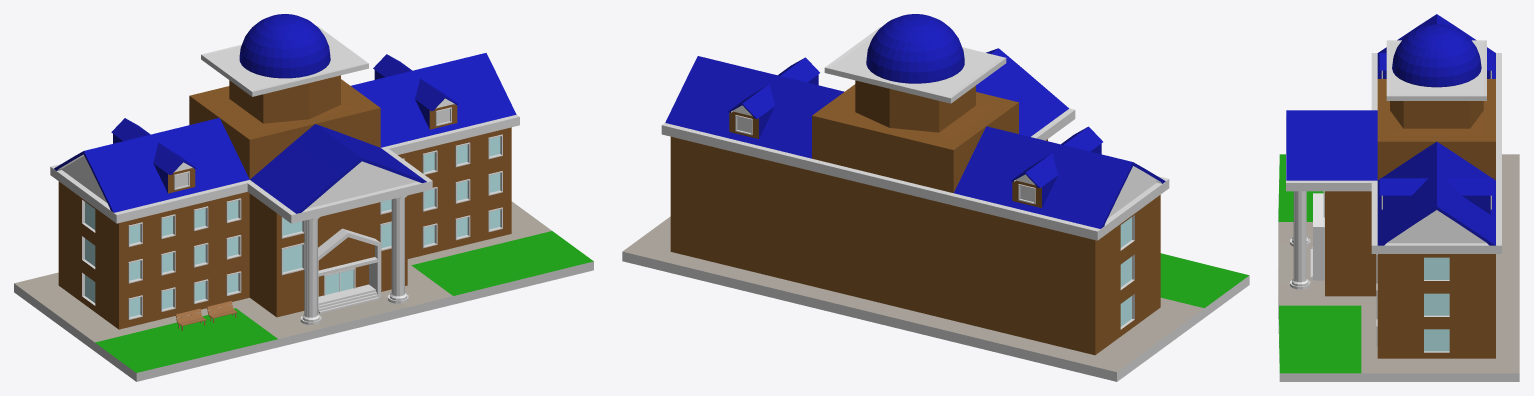
Rendered from University.glb.
3 views of the same model, side by side, from view 1: azimuth 30°, elevation 25°; view 2: azimuth 150°, elevation 25°; view 3: azimuth 270°, elevation 25° (orthographic). The views are drawn at different scales.
Visible parts, largest first — view 1: Cube; view 2: Cube; view 3: Cube.
Boxes of the visible parts, left/top/right/bottom form: Cube: left=14, top=14, right=593, bottom=381; Cube: left=622, top=14, right=1249, bottom=381; Cube: left=1278, top=14, right=1519, bottom=381.
Bounding box in the file's own units: 8.75 × 4.54 × 4.08.
